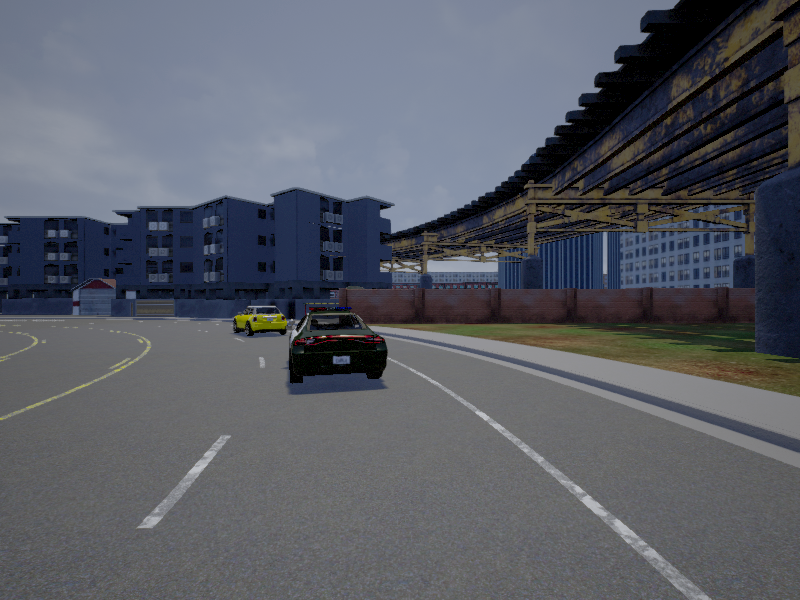Benign: (287, 307, 388, 386), (234, 306, 286, 334)
